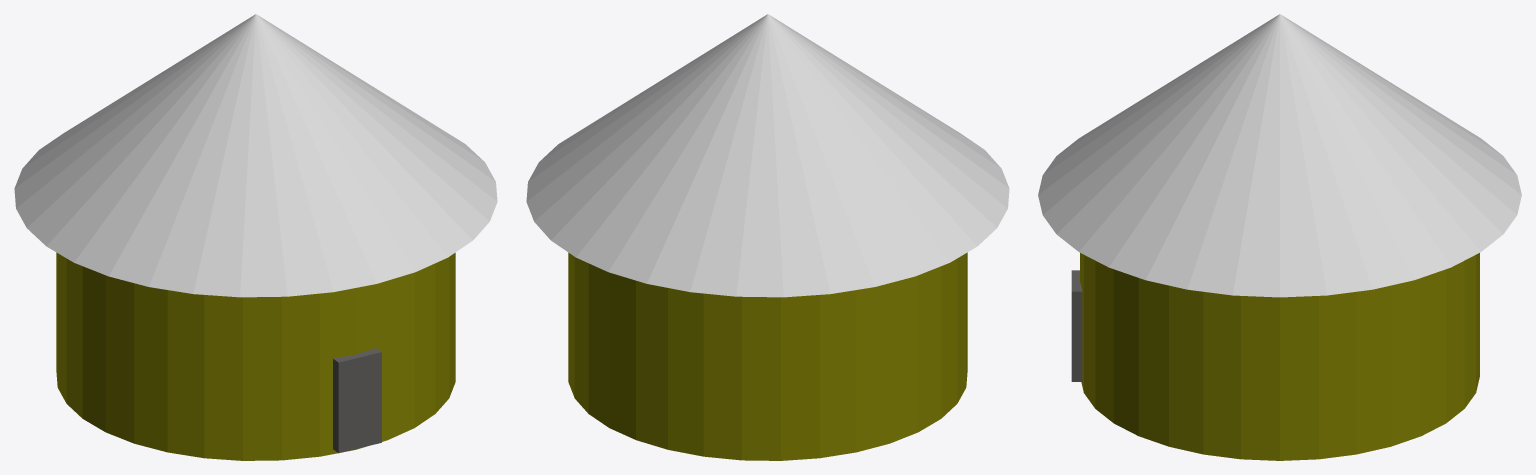
Rendered from hut.fbx.
3 renders of one model, left to right at view 1: azimuth 30°, elevation 25°; view 2: azimuth 150°, elevation 25°; view 3: azimuth 270°, elevation 25°, orthographic.
Visible parts, largest first — view 1: roof, Walls, Door; view 2: roof, Walls; view 3: roof, Walls, Door.
Part boxes in pixels (<box>): roof: <box>14,14,497,297</box>; Walls: <box>56,252,455,460</box>; Door: <box>333,348,381,453</box>; roof: <box>526,14,1009,297</box>; Walls: <box>568,252,967,460</box>; roof: <box>1038,14,1521,297</box>; Walls: <box>1080,253,1479,460</box>; Door: <box>1071,270,1082,381</box>.
Bounding box in the file's own units: 484 × 400 × 484.
